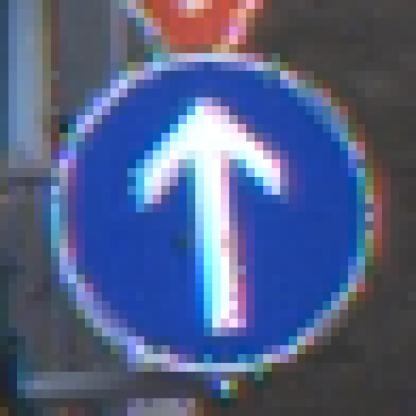AheadOnly: (52, 54, 374, 373)
